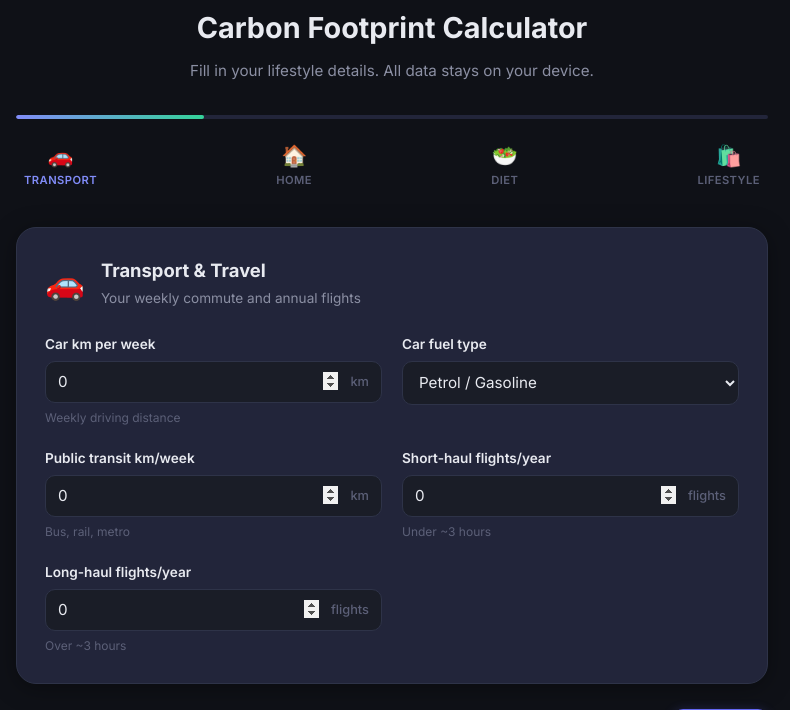
Test: Calculator Component › shows calculate button on final step
// Navigate to last step
Click the button with aria-label "Step 4": (729, 165) [689,135,768,195]
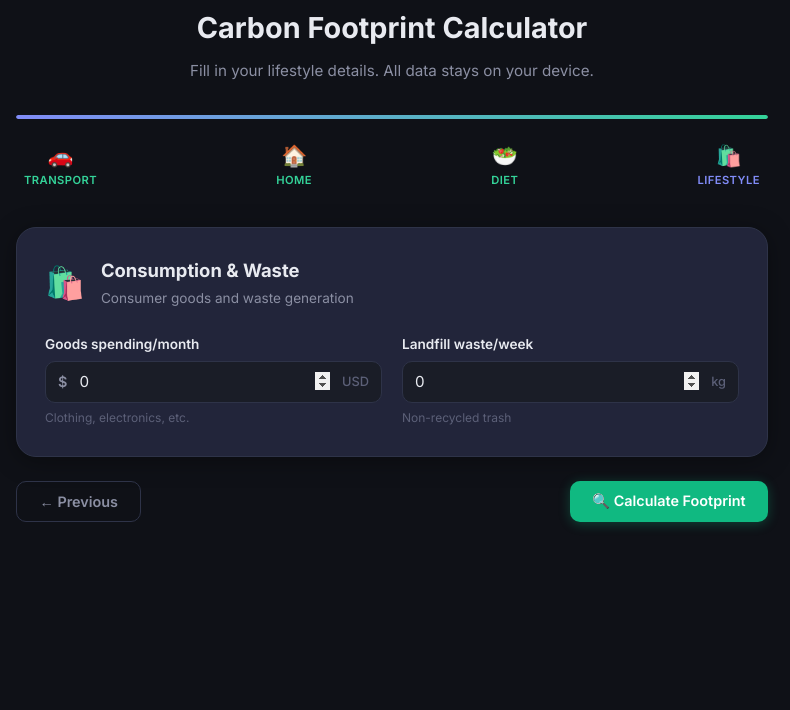
Expected: the button "🔍 Calculate Footprint" is shown, [570,481,768,522]
